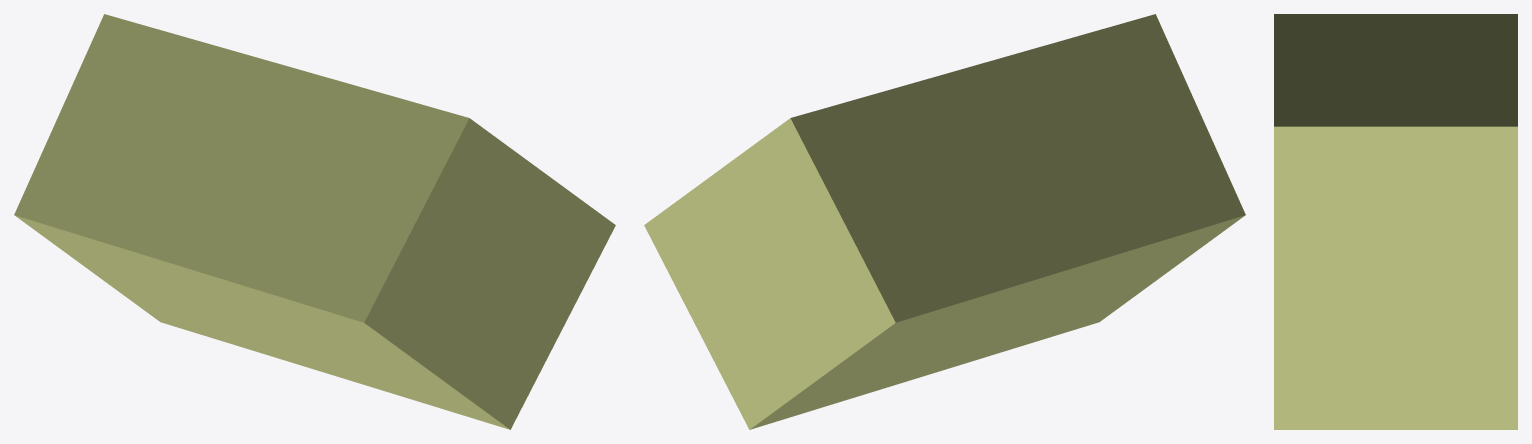
3 views of the same model, side by side, from view 1: azimuth 30°, elevation 25°; view 2: azimuth 150°, elevation 25°; view 3: azimuth 270°, elevation 25° (orthographic). The views are drawn at different scales.
Visible parts, largest first — view 1: 0_1_0_2_0_0_0_0_0_3_3; view 2: 0_1_0_2_0_0_0_0_0_3_3; view 3: 0_1_0_2_0_0_0_0_0_3_3.
Boxes of the visible parts, bbox=[...] form: 0_1_0_2_0_0_0_0_0_3_3: bbox=[14, 14, 615, 429]; 0_1_0_2_0_0_0_0_0_3_3: bbox=[644, 14, 1245, 429]; 0_1_0_2_0_0_0_0_0_3_3: bbox=[1274, 14, 1517, 429].
Size of the model in its own units: 10.78 by 8.42 by 6.
